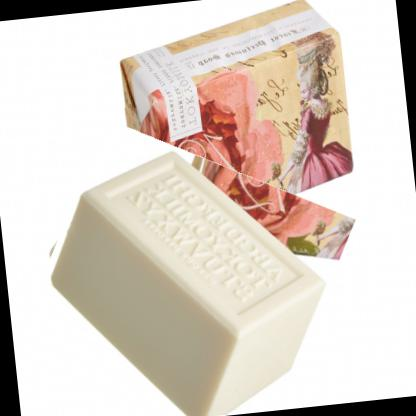soap: (12, 119, 353, 415)
